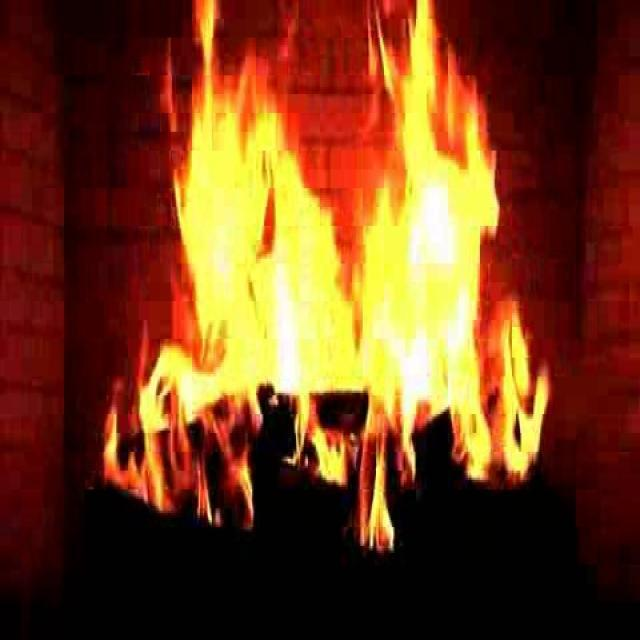Fire: (161, 26, 544, 556)
